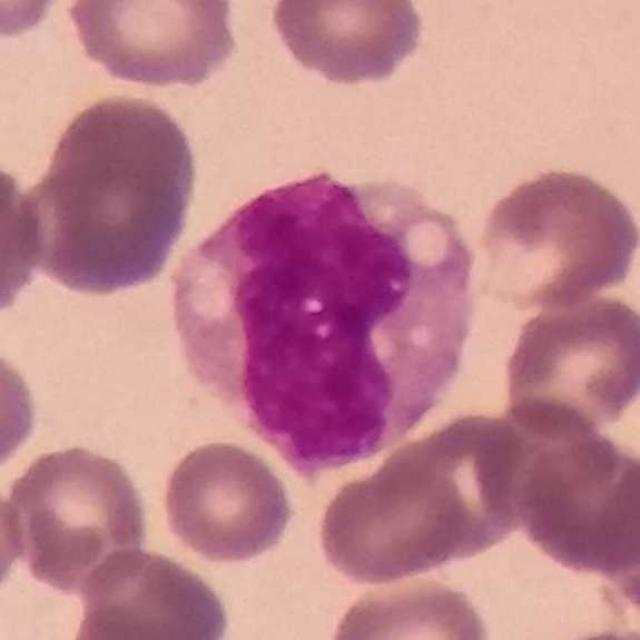mono: (172, 166, 480, 479)
